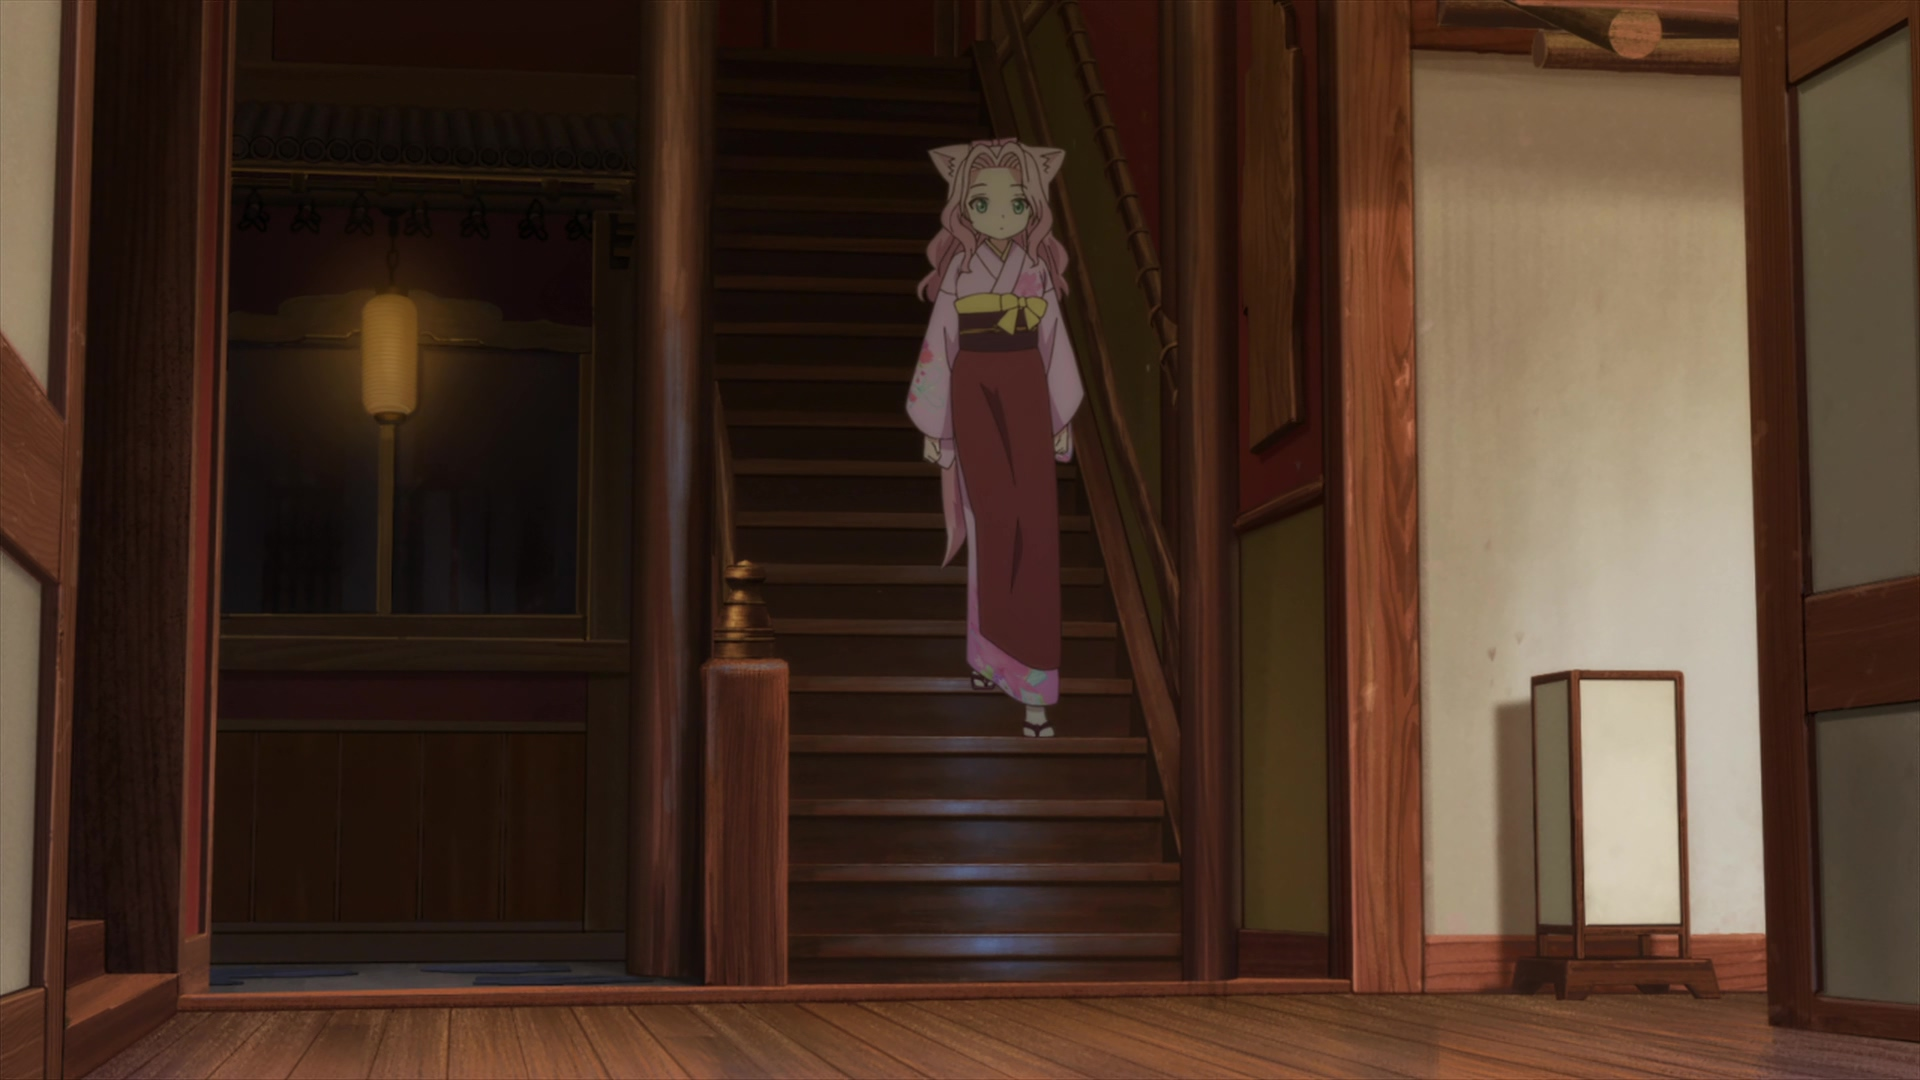莲: (905, 137, 1085, 738)
